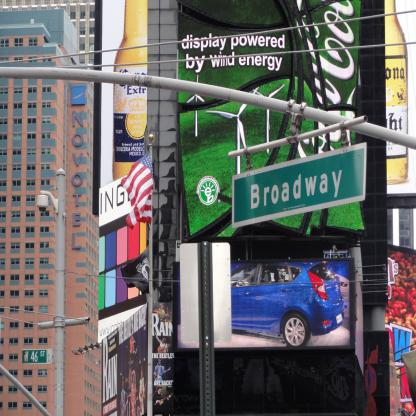Car: (231, 257, 344, 348)
